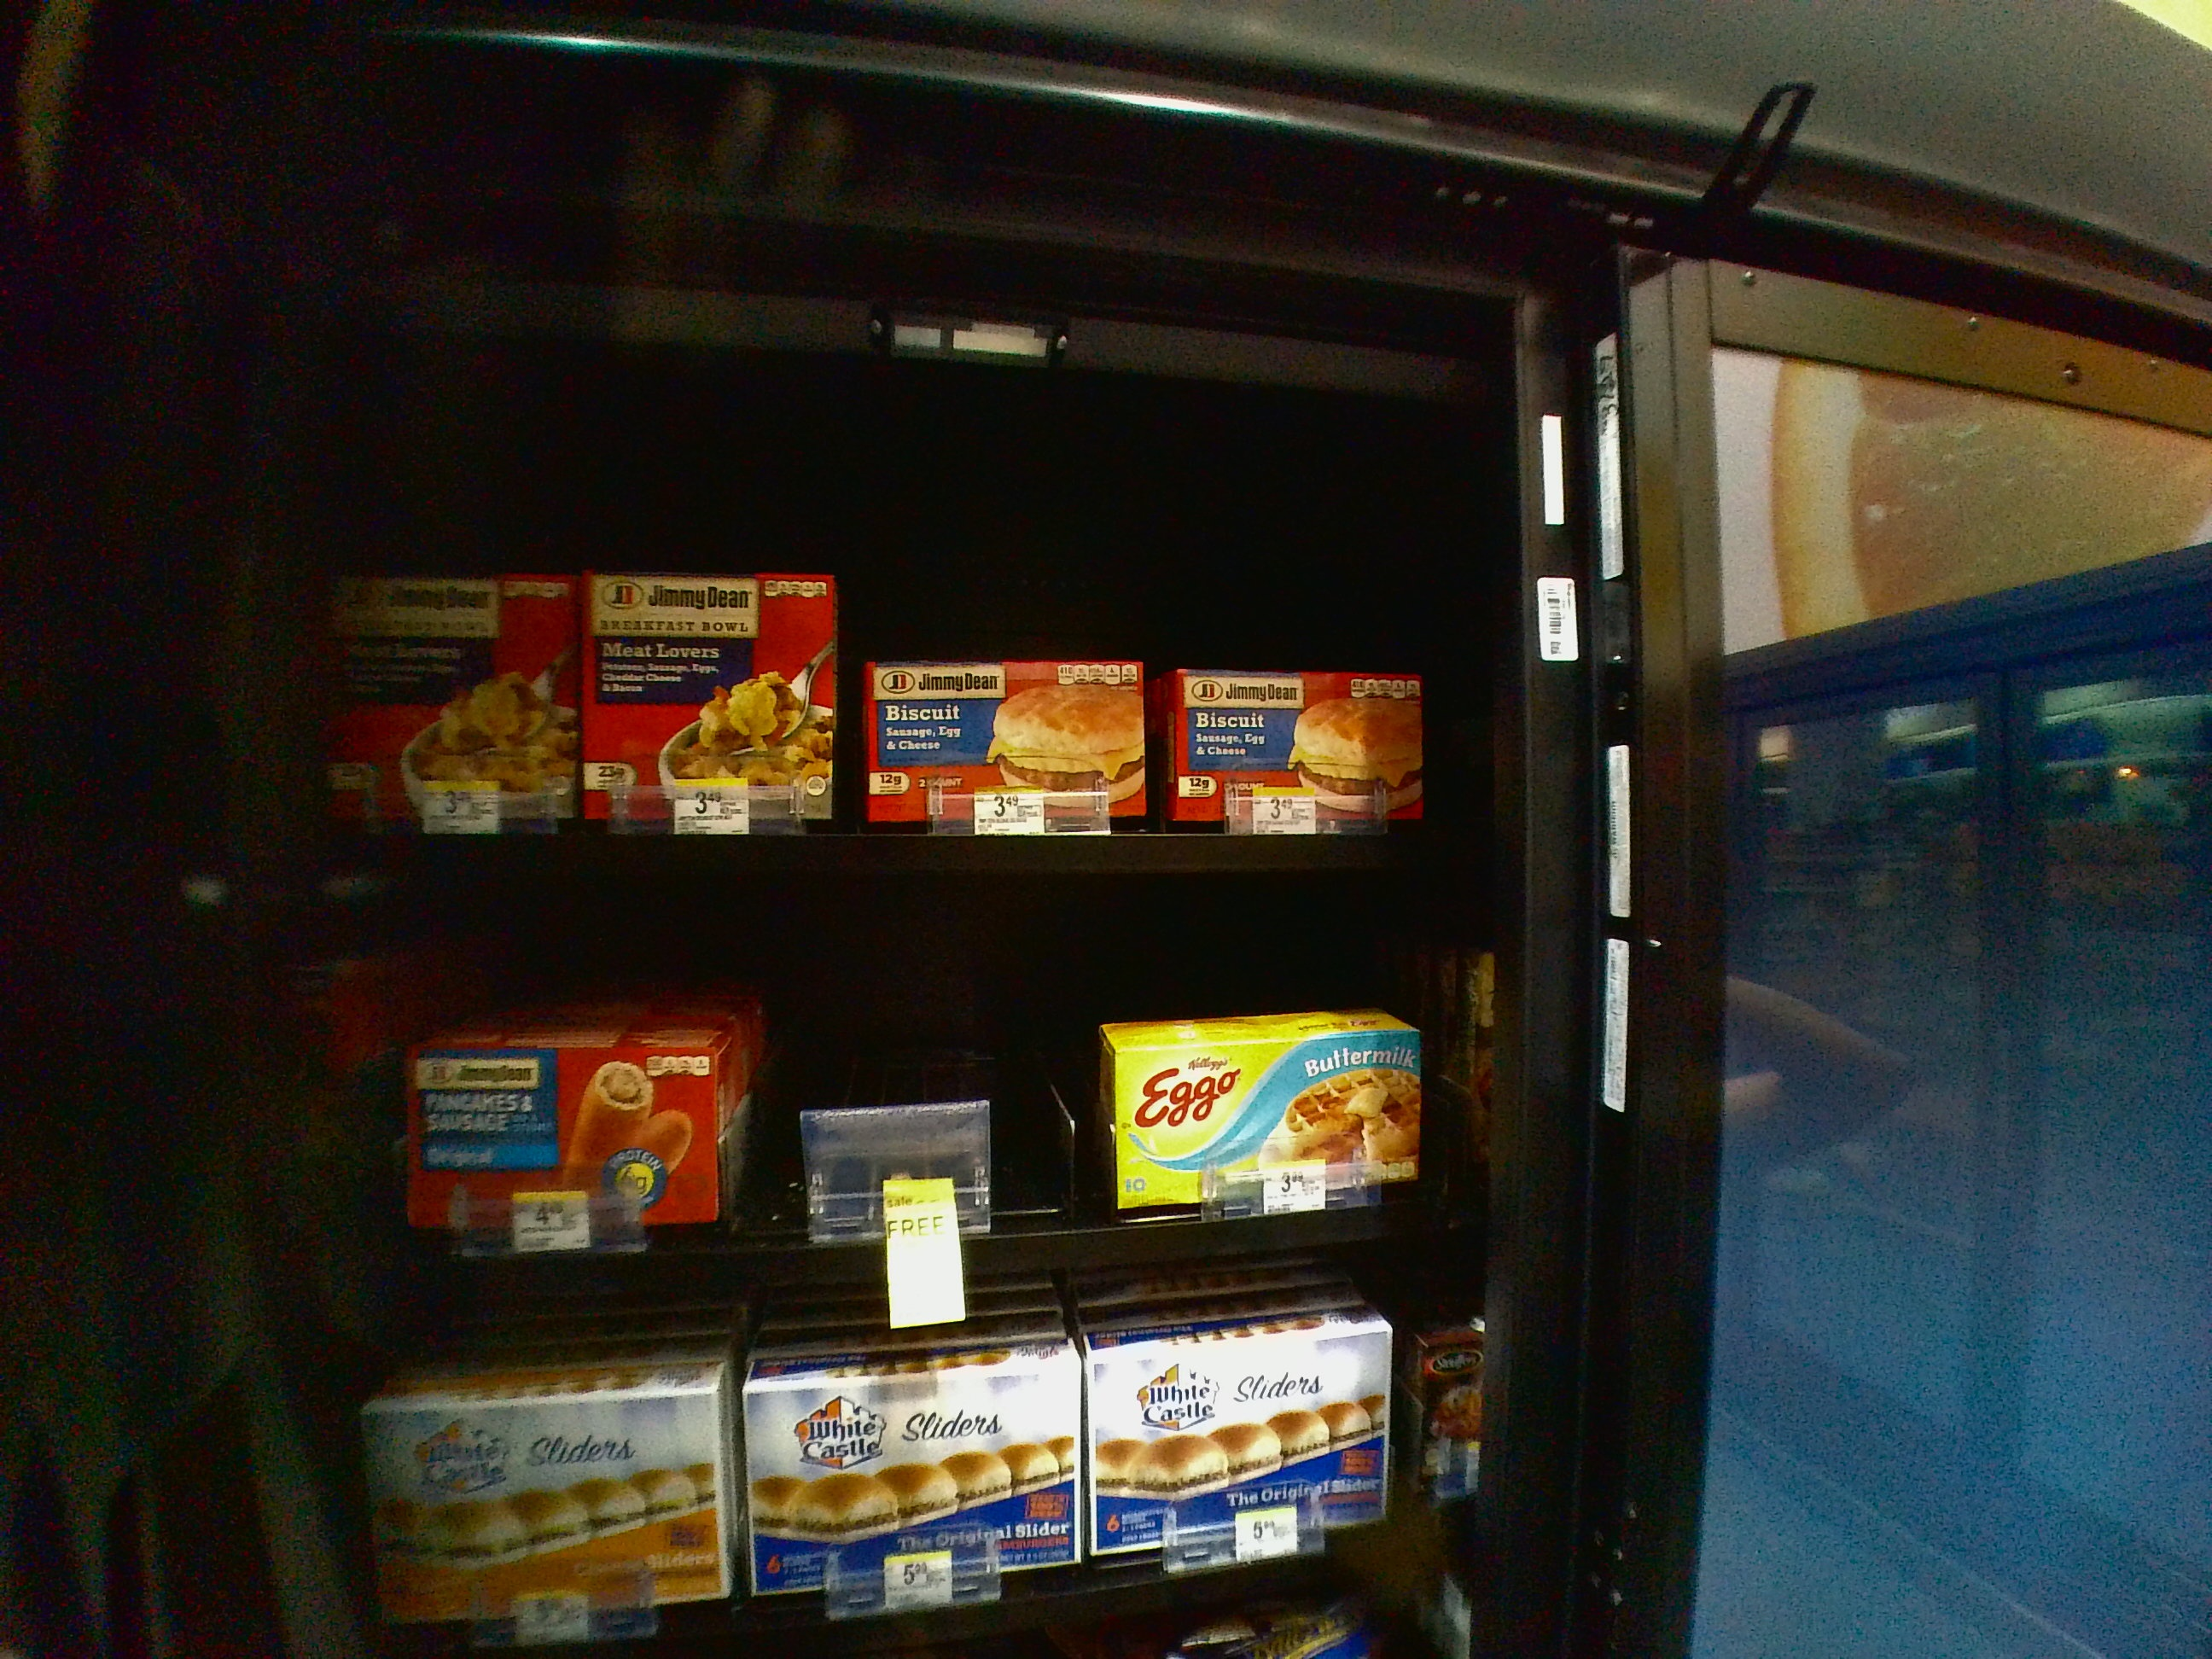shelf: (319, 404, 1474, 871), (324, 884, 1479, 1314)
